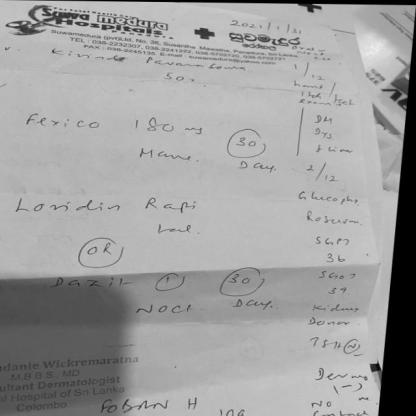Handwritten text: (16, 185, 206, 225), (24, 105, 110, 141)
